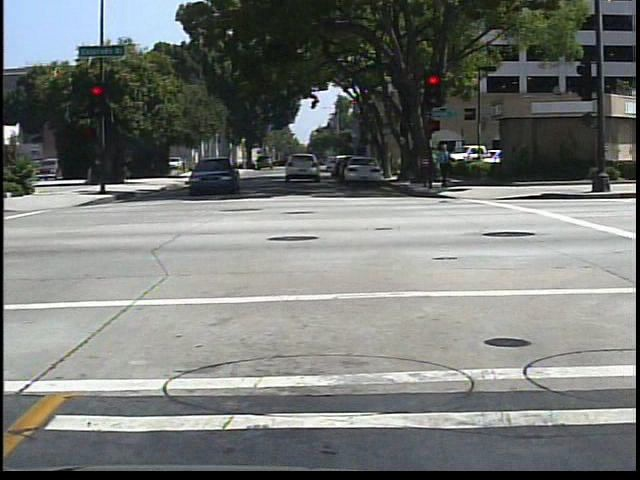person: (433, 138, 457, 191)
